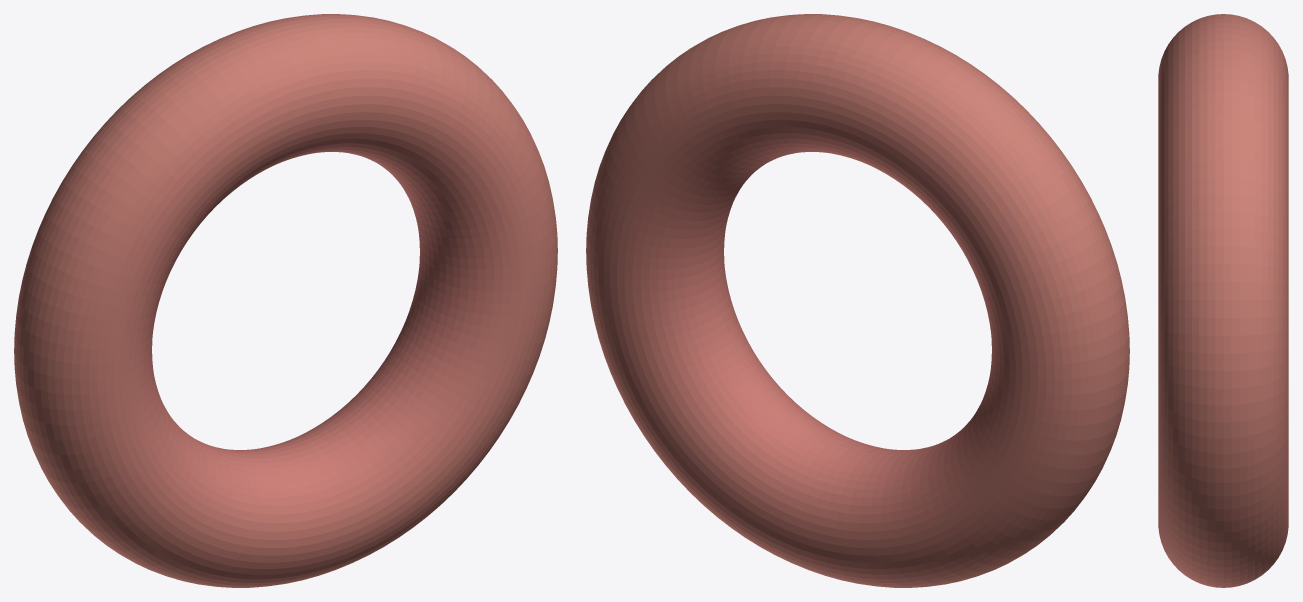
The picture shows the model from 3 angles, left to right: view 1: azimuth 30°, elevation 25°; view 2: azimuth 150°, elevation 25°; view 3: azimuth 270°, elevation 25°; orthographic projection. The views are drawn at different scales.
Visible parts, largest first — view 1: world; view 2: world; view 3: world.
Part boxes in pixels (x1,y1,x2,y2): world: [14, 14, 557, 587]; world: [586, 14, 1129, 587]; world: [1158, 14, 1288, 587].
Size of the model in its own units: 31.07 by 31.07 by 7.05.
